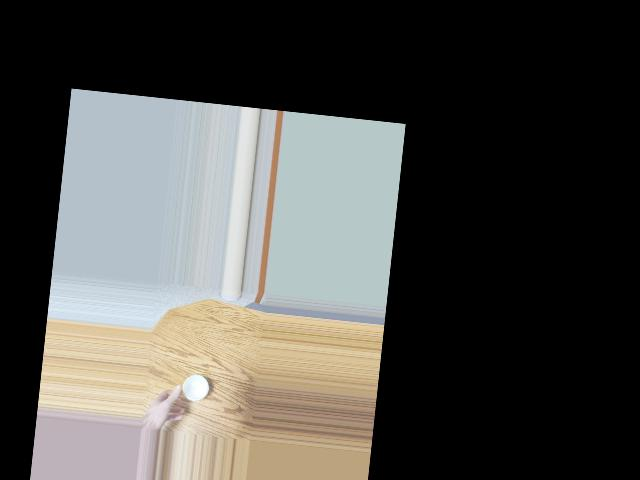cotage: (173, 367, 213, 407)
